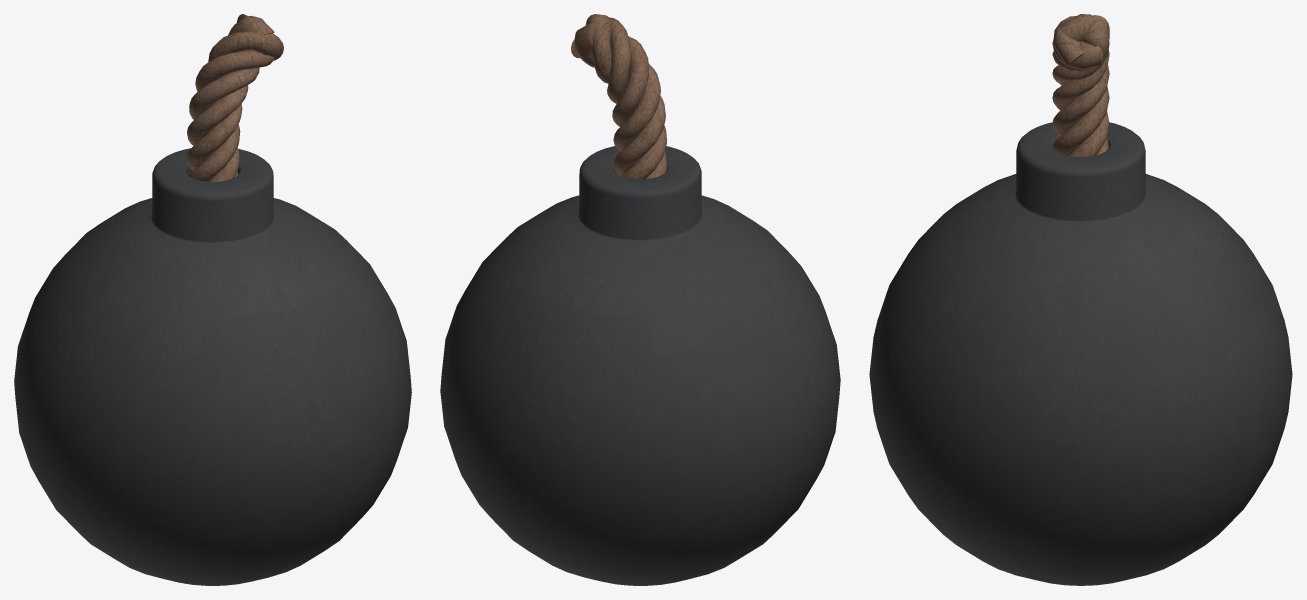
Rendered from SM_Bomb.glb.
3 renders of one model, left to right at view 1: azimuth 30°, elevation 25°; view 2: azimuth 150°, elevation 25°; view 3: azimuth 270°, elevation 25°, orthographic. The views are drawn at different scales.
Parts seen in each view (by area): view 1: Object_2, Object_3; view 2: Object_2, Object_3; view 3: Object_2, Object_3.
Boxes of the visible parts, x1,y1,x2,y2 form: Object_2: (14,148,411,585); Object_3: (186,14,283,181); Object_2: (440,146,840,585); Object_3: (571,14,667,179); Object_2: (869,122,1292,585); Object_3: (1052,14,1109,156).
Bounding box in the file's own units: 2.96 × 4.42 × 2.96.
Materials: 2 (2 with a texture image).
